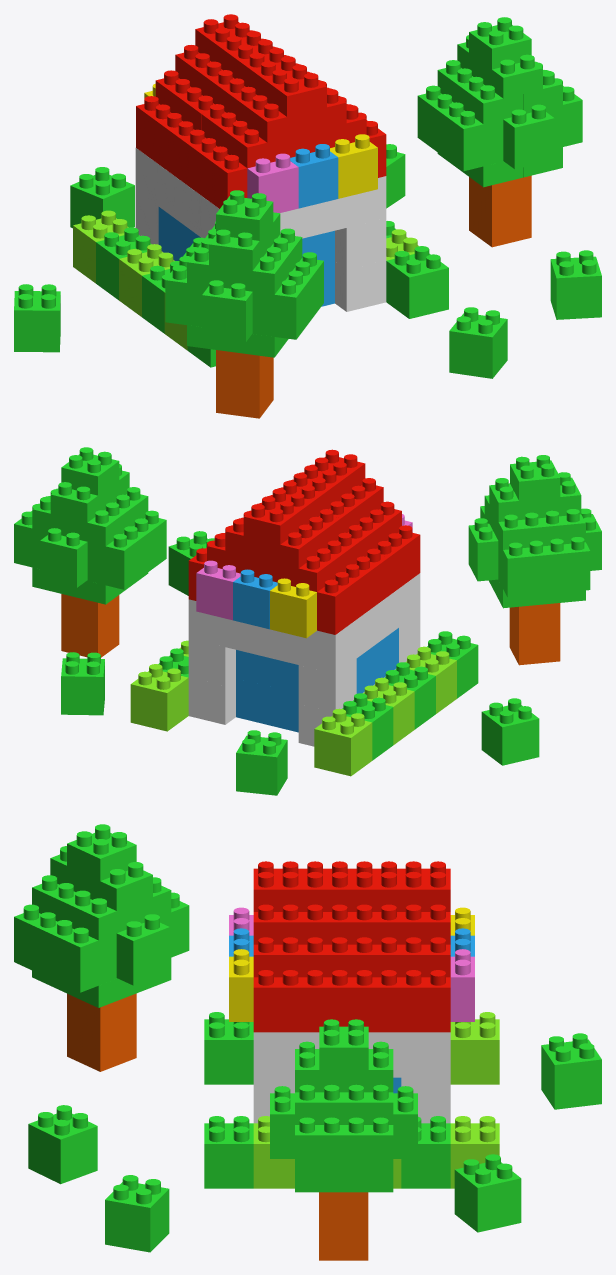
File: Cake_ThemeToys_F.FBX
3 views of the same model, one above another, from view 1: azimuth 30°, elevation 25°; view 2: azimuth 150°, elevation 25°; view 3: azimuth 270°, elevation 25° (orthographic). The views are drawn at different scales.
Parts seen in each view (by area): view 1: Cake_ThemeToys_F; view 2: Cake_ThemeToys_F; view 3: Cake_ThemeToys_F.
Boxes of the visible parts, x1,y1,x2,y2 form: Cake_ThemeToys_F: [14, 14, 601, 418]; Cake_ThemeToys_F: [14, 447, 601, 795]; Cake_ThemeToys_F: [14, 824, 601, 1260].
Bounding box in the file's own units: 105594 × 44302 × 91833.
